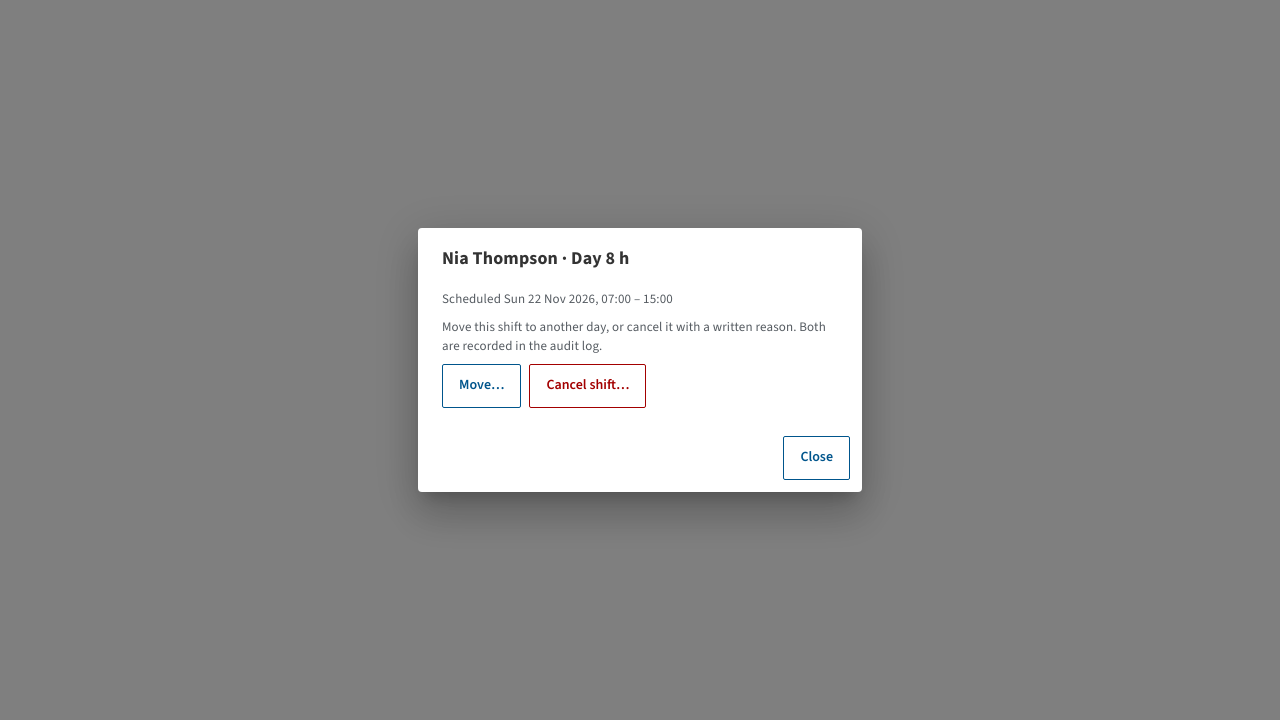
Test: the rostered shift dialog › needs ten characters before cancelling, then sends the reason
Later steps or results of the test are not shown.
Step 1. Click the button "Cancel shift…" → (588, 386), box top-left (530, 364), bottom-right (646, 408)
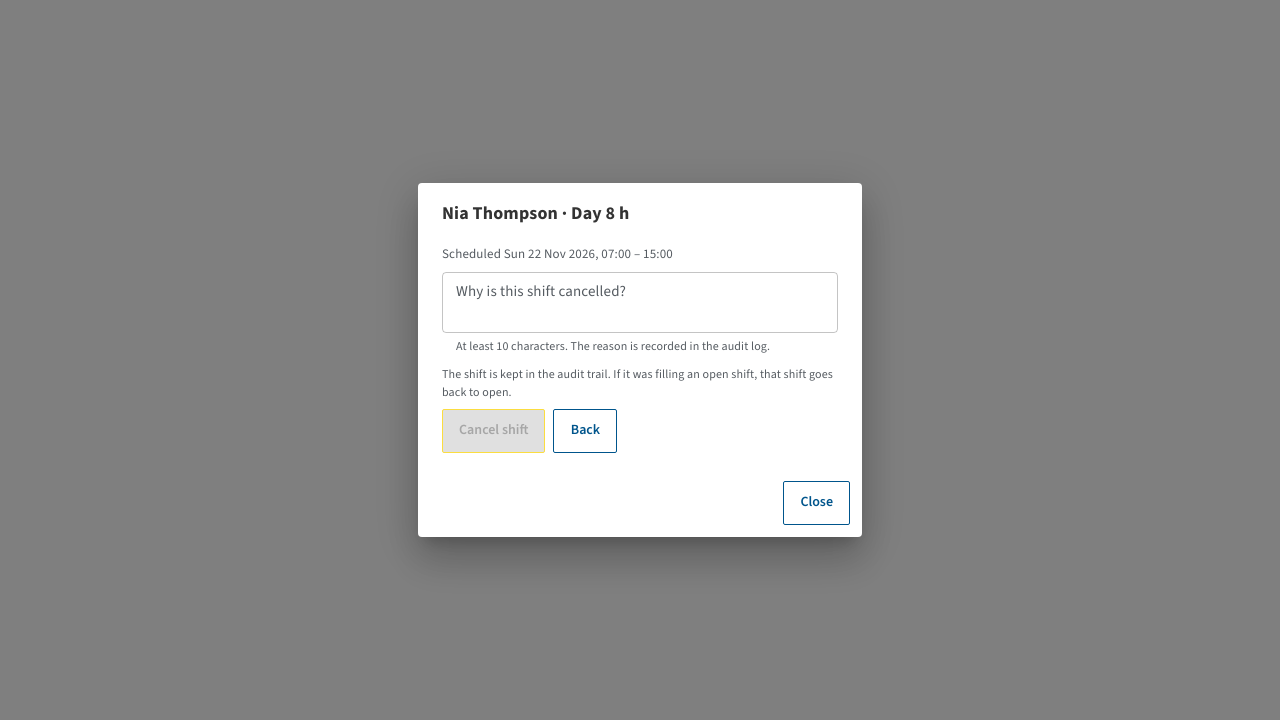
Expected: the button "Cancel shift" is disabled, top-left (442, 409), bottom-right (546, 453)
Step 2. Type "Short" into the text box labelled "Why is this shift cancelled?" → (640, 302), box top-left (456, 280), bottom-right (824, 324)
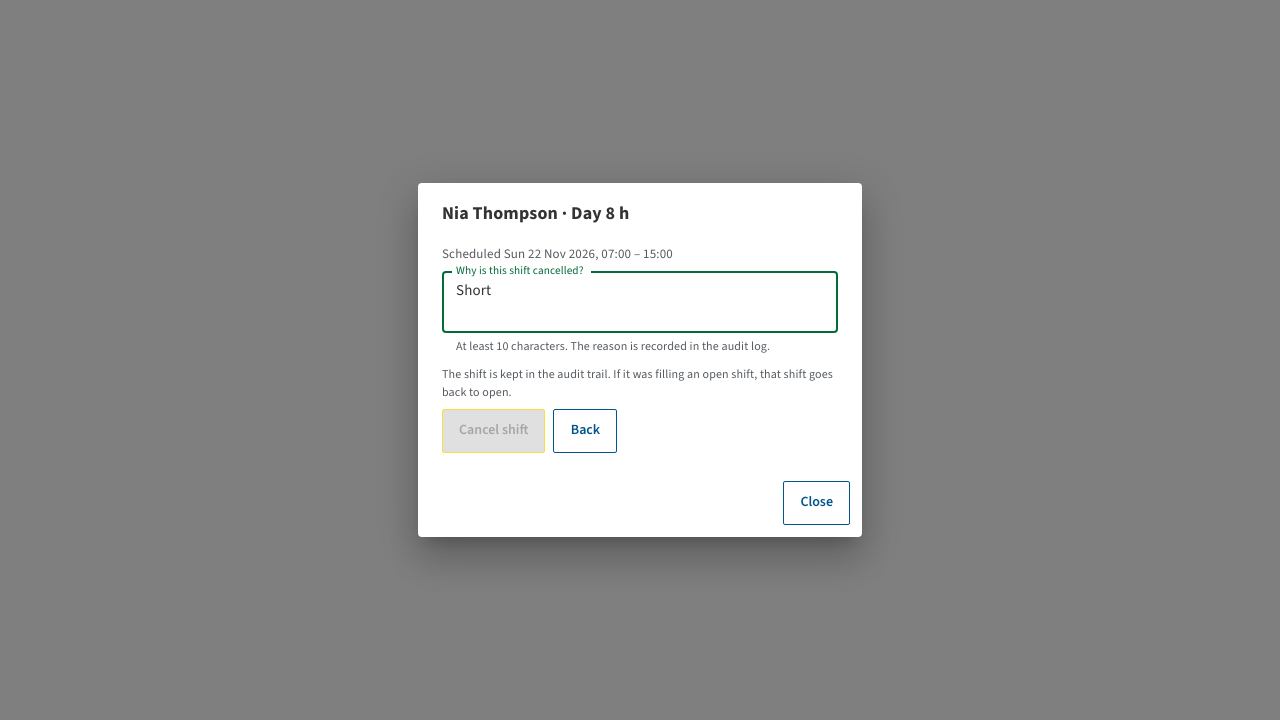
Expected: the button "Cancel shift" is disabled, top-left (442, 409), bottom-right (546, 453)
Step 3. Type " call, no relief" into the text box labelled "Why is this shift cancelled?" → (640, 302), box top-left (456, 280), bottom-right (824, 324)
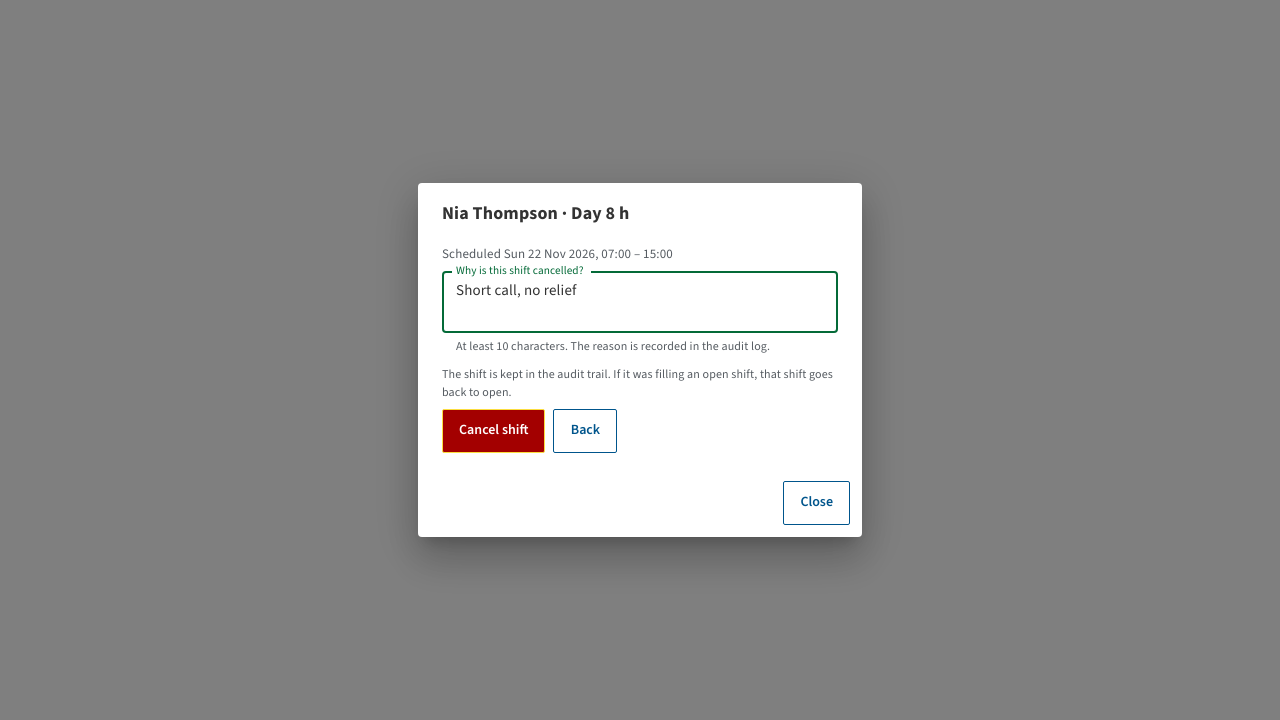
Expected: the button "Cancel shift" is enabled, top-left (442, 409), bottom-right (546, 453)
